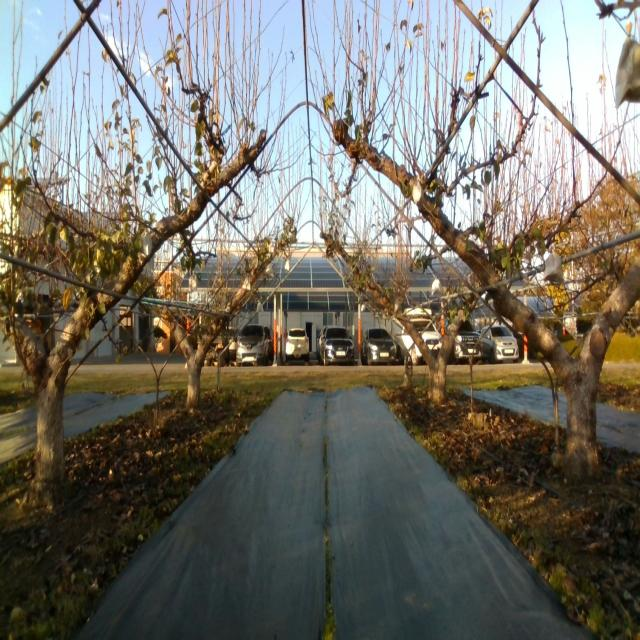pearbags: (615, 36, 640, 108), (544, 253, 565, 283), (432, 279, 442, 298)
